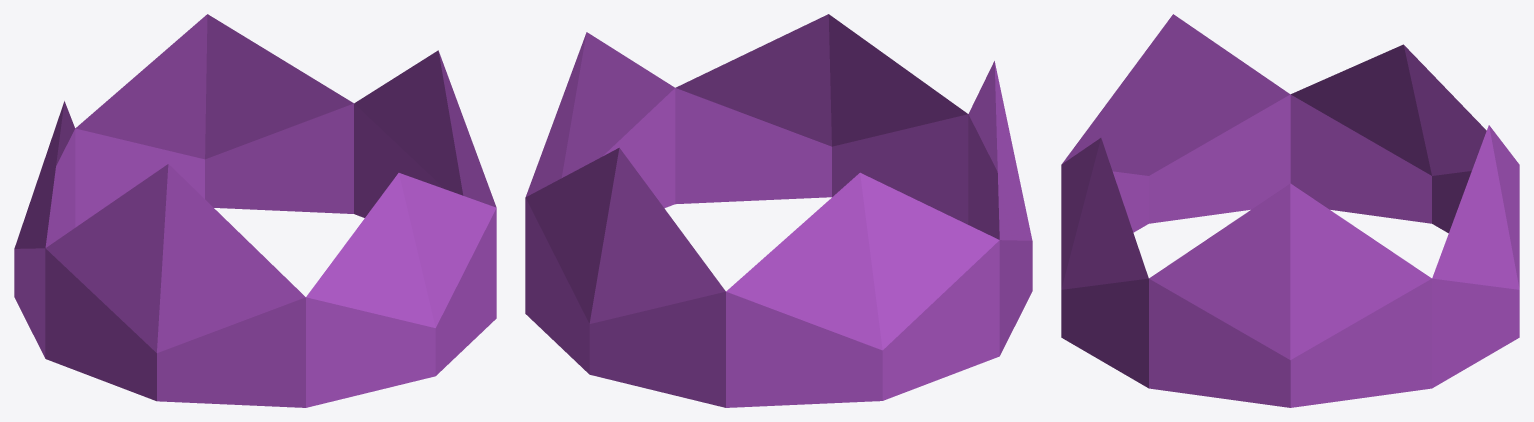
File: Party_Hat_Purple.glb
3 renders of one model, left to right at view 1: azimuth 30°, elevation 25°; view 2: azimuth 150°, elevation 25°; view 3: azimuth 270°, elevation 25°, orthographic. The views are drawn at different scales.
Parts seen in each view (by area): view 1: PartyHat; view 2: PartyHat; view 3: PartyHat.
Boxes of the visible parts, x1,y1,x2,y2 form: PartyHat: [14, 14, 496, 407]; PartyHat: [525, 14, 1032, 407]; PartyHat: [1061, 14, 1519, 407].
Size of the model in its own units: 0.32 by 0.1622 by 0.3043.
